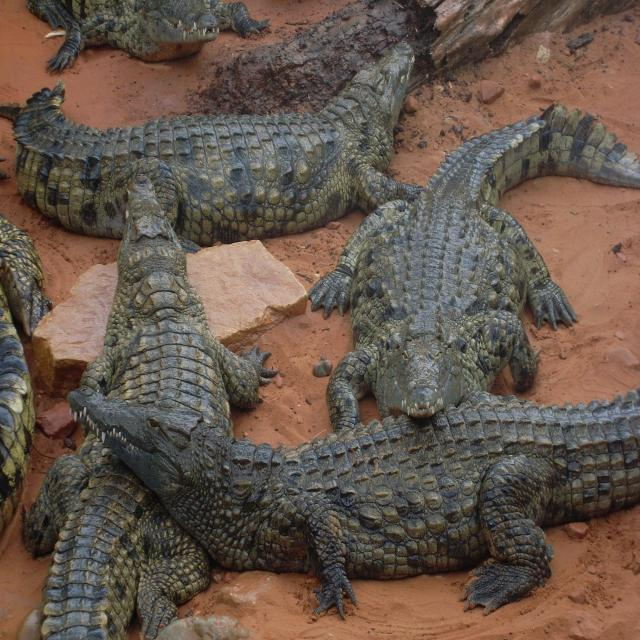crocodile: (75, 347, 640, 640), (294, 76, 640, 444)
